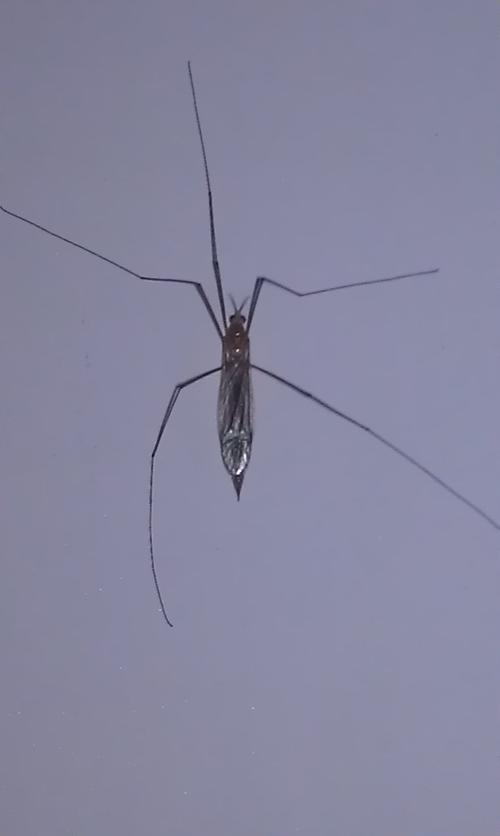Cecidomyiidae: (1, 63, 498, 635)
